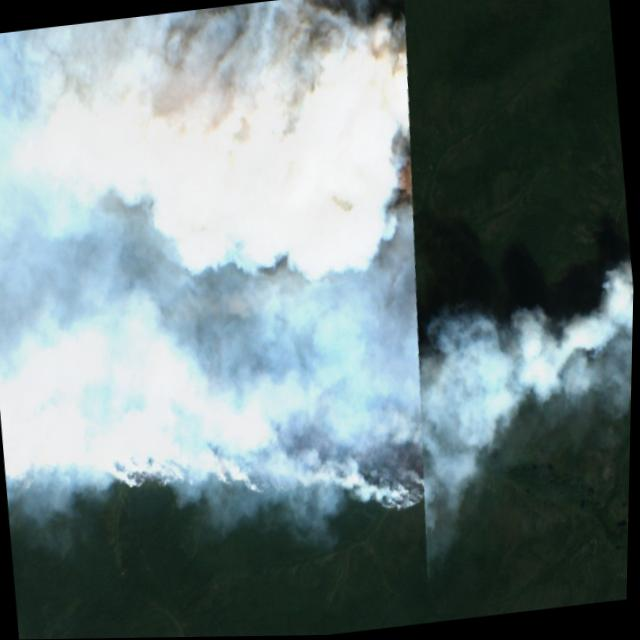fire: (0, 101, 465, 562)
